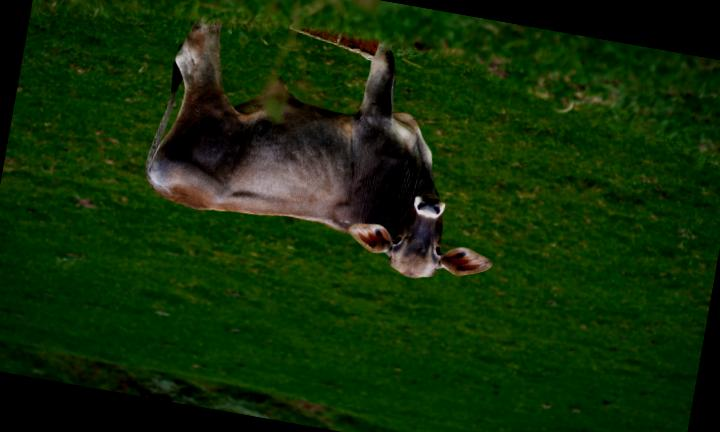Brahman: (146, 23, 492, 278)
